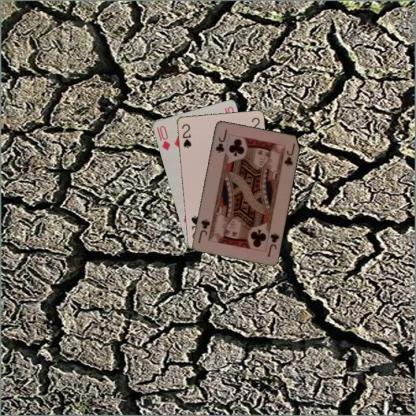10d: (156, 122, 172, 152)
2s: (179, 121, 193, 149)
Jc: (264, 230, 280, 258), (212, 127, 228, 154)
